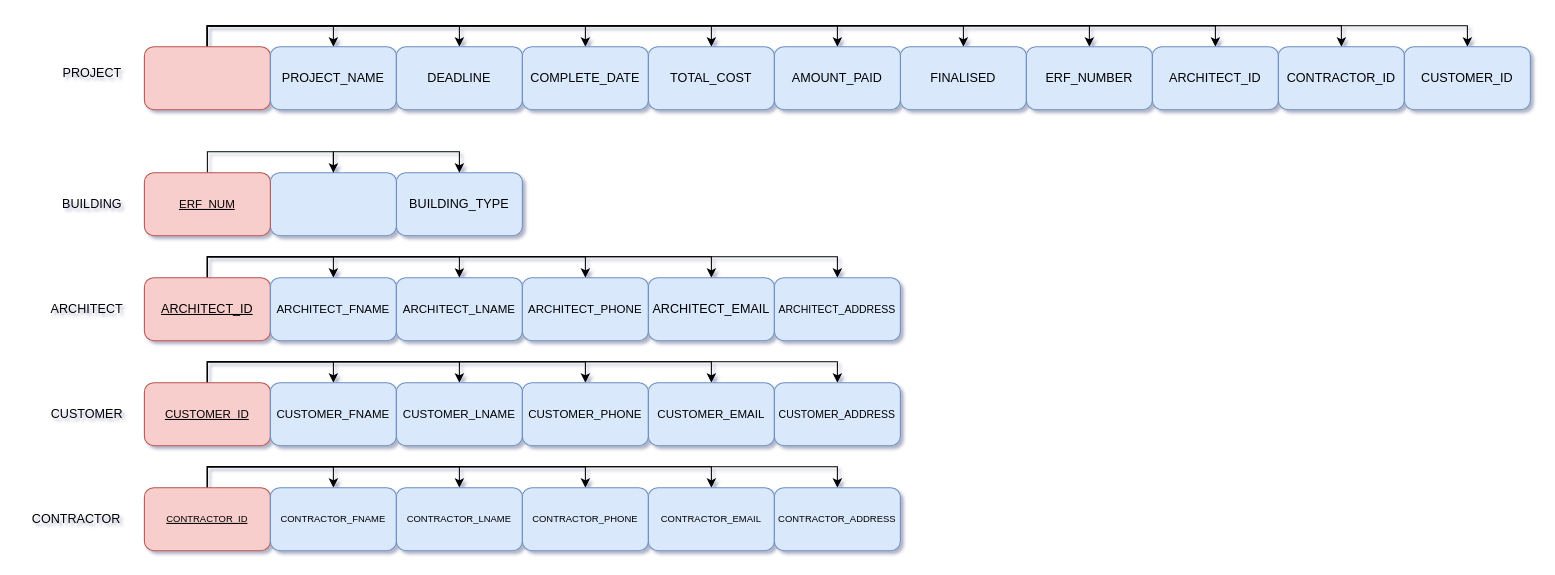
Some shapes in this 1555 by 575 pixel diagram are drawn without their labels. Each missing label, with the centre of its shape:
"BUILDING_ADDRESS" belongs at (332,204).
"PROJECT_NUM" belongs at (206,78).
